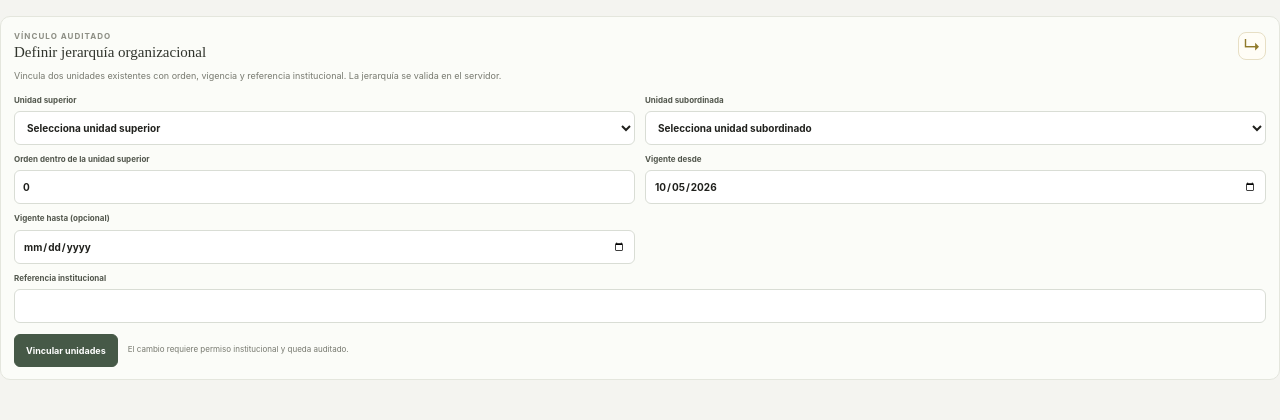
Test: CreateAcademicStructureRelationForm › creates an audited organization hierarchy relation
Select "Facultad de prueba · FACULTY-TEST" in the dropdown labelled "Unidad superior" at (324, 128), box [14,111,635,145]
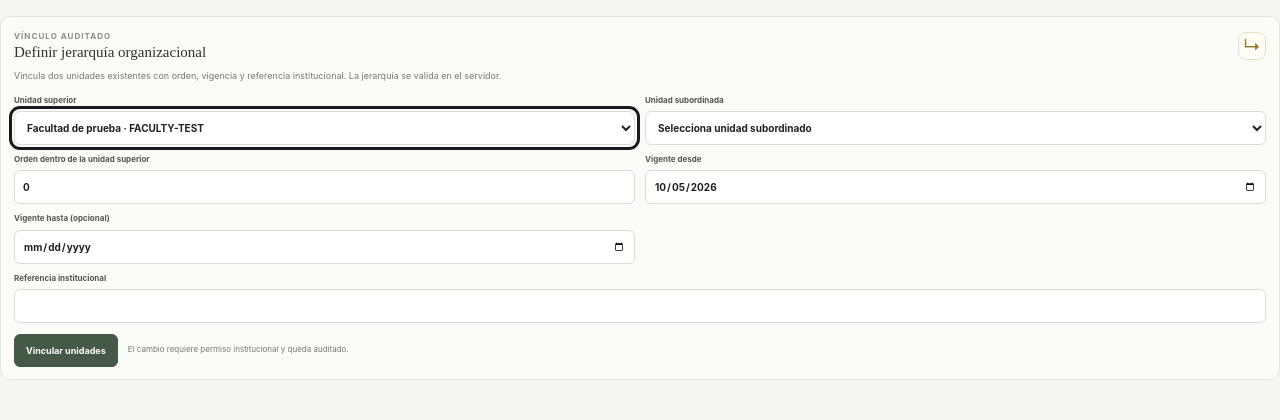
Select "Escuela de prueba · SCHOOL-TEST" in the dropdown labelled "Unidad subordinada" at (956, 128), box [645,111,1266,145]
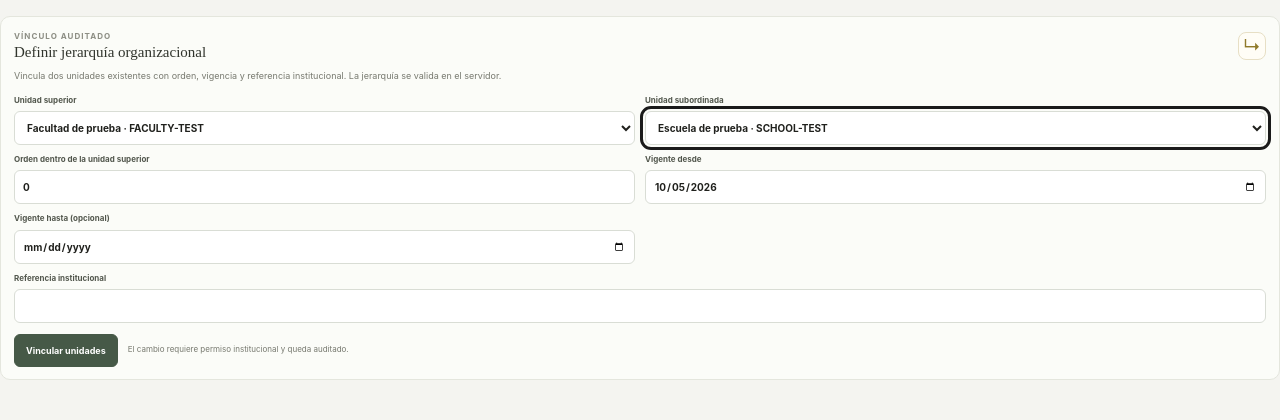
Type "Acuerdo de adscripción de prueba" into the field labelled "Referencia institucional" at (640, 306), box [14,289,1266,323]
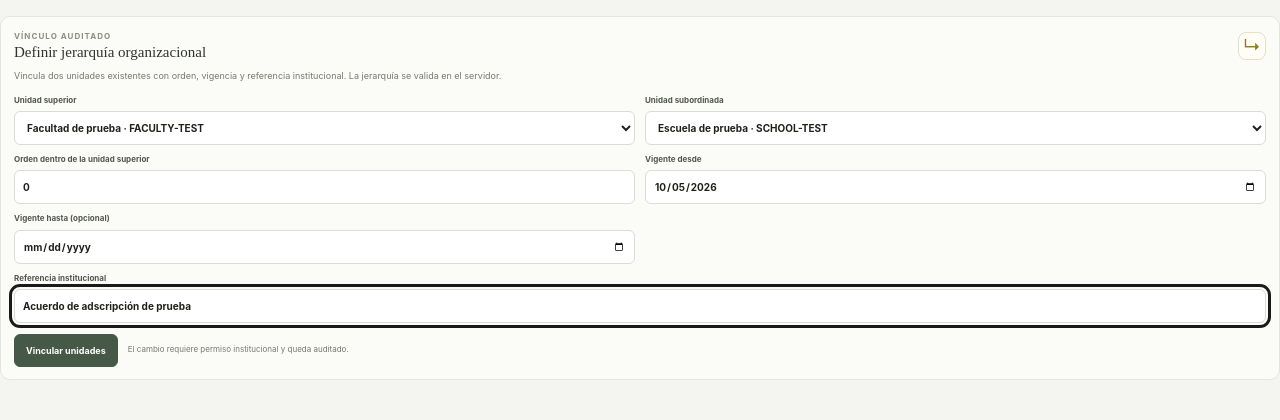
Click the button "Vincular unidades" at (66, 350), box [14,334,118,367]
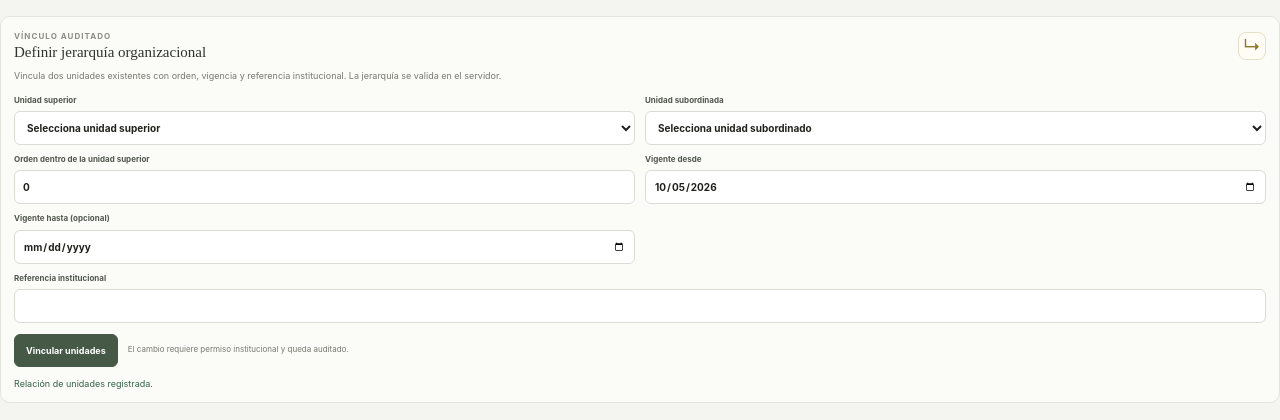
Expected: the message shows "Relación de unidades registrada", [14,378,153,389]
